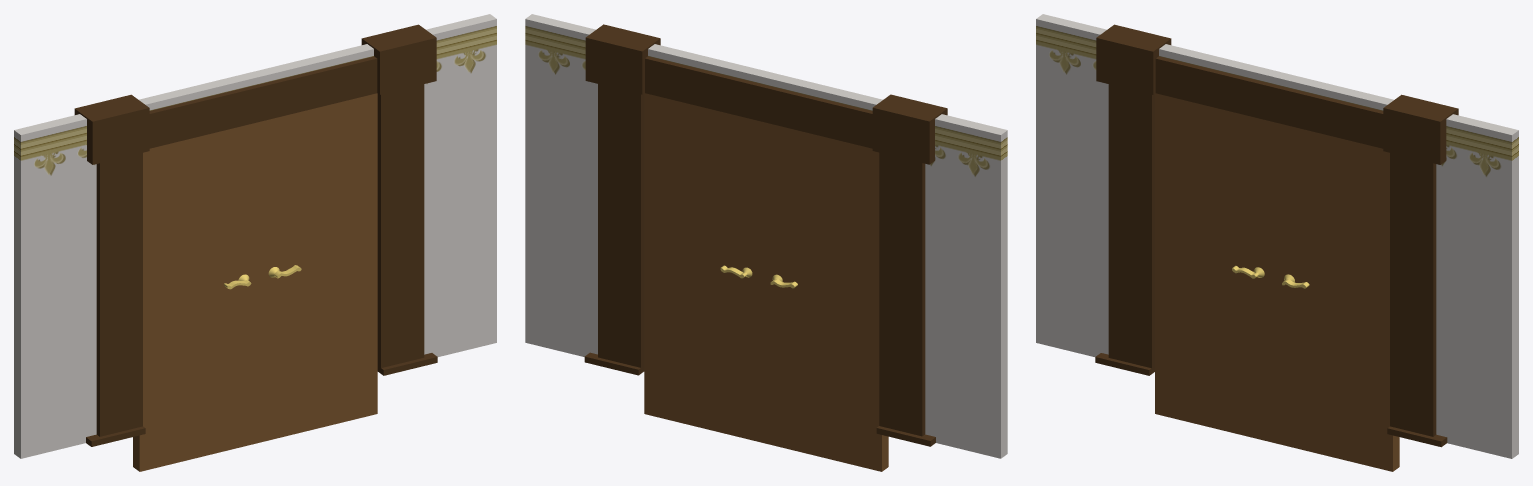
Rendered from doubledoor.fbx.
3 renders of one model, left to right at view 1: azimuth 30°, elevation 25°; view 2: azimuth 150°, elevation 25°; view 3: azimuth 330°, elevation 25°, orthographic.
Visible parts, largest first — view 1: geo_door_02, geo_door_01, geo_DoubleDoorWallFull_01, geo_DoubleDoorWallFull_02, geo_doorFrameSide_05, geo_doorFrameSide_01, geo_doorFrameTop_01, geo_doorFrameSide_03, geo_doorFrameSide_07, geo_doorFrameSide_06, geo_doorFrameSide_02; view 2: geo_door_02, geo_door_01, geo_DoubleDoorWallFull_01, geo_DoubleDoorWallFull_02, geo_doorFrameSide_05, geo_doorFrameSide_01, geo_doorFrameTop_01, geo_doorFrameSide_03, geo_doorFrameSide_07, geo_doorFrameSide_02, geo_doorFrameSide_06; view 3: geo_door_01, geo_door_02, geo_DoubleDoorWallFull_02, geo_DoubleDoorWallFull_01, geo_doorFrameSide_01, geo_doorFrameSide_05, geo_doorFrameTop_01, geo_doorFrameSide_07, geo_doorFrameSide_03, geo_doorFrameSide_06, geo_doorFrameSide_02.
Part boxes in pixels (<box>): geo_door_02: <box>258,93,377,442</box>; geo_door_01: <box>133,122,258,471</box>; geo_DoubleDoorWallFull_01: <box>14,72,258,458</box>; geo_DoubleDoorWallFull_02: <box>252,14,496,356</box>; geo_doorFrameSide_05: <box>377,84,424,367</box>; geo_doorFrameSide_01: <box>96,153,142,436</box>; geo_doorFrameTop_01: <box>149,56,377,148</box>; geo_doorFrameSide_03: <box>74,94,149,164</box>; geo_doorFrameSide_07: <box>361,24,436,94</box>; geo_doorFrameSide_06: <box>377,353,437,375</box>; geo_doorFrameSide_02: <box>86,426,145,446</box>; geo_door_02: <box>644,93,763,442</box>; geo_door_01: <box>763,122,888,471</box>; geo_DoubleDoorWallFull_01: <box>763,72,1007,458</box>; geo_DoubleDoorWallFull_02: <box>525,14,769,356</box>; geo_doorFrameSide_05: <box>598,84,644,368</box>; geo_doorFrameSide_01: <box>879,152,925,436</box>; geo_doorFrameTop_01: <box>645,56,872,148</box>; geo_doorFrameSide_03: <box>872,94,947,164</box>; geo_doorFrameSide_07: <box>585,24,660,94</box>; geo_doorFrameSide_02: <box>876,426,935,446</box>; geo_doorFrameSide_06: <box>584,352,644,375</box>; geo_door_01: <box>1155,93,1274,442</box>; geo_door_02: <box>1274,122,1399,471</box>; geo_DoubleDoorWallFull_02: <box>1274,72,1518,458</box>; geo_DoubleDoorWallFull_01: <box>1036,14,1280,356</box>; geo_doorFrameSide_01: <box>1108,84,1154,368</box>; geo_doorFrameSide_05: <box>1390,153,1436,436</box>; geo_doorFrameTop_01: <box>1155,56,1383,148</box>; geo_doorFrameSide_07: <box>1383,94,1458,164</box>; geo_doorFrameSide_03: <box>1096,24,1171,94</box>; geo_doorFrameSide_06: <box>1387,426,1447,447</box>; geo_doorFrameSide_02: <box>1095,353,1154,375</box>.
Bounding box in the file's own units: 200 × 148 × 13.18.
4 materials, 1 textured.
